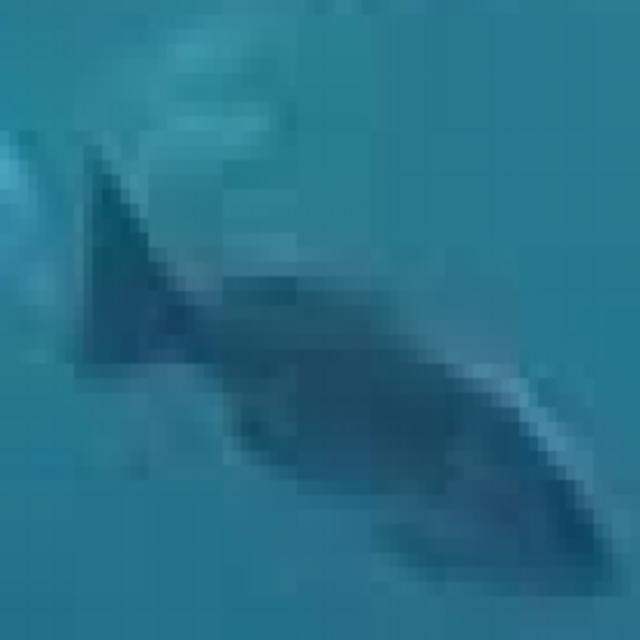fish: (9, 14, 639, 640)
